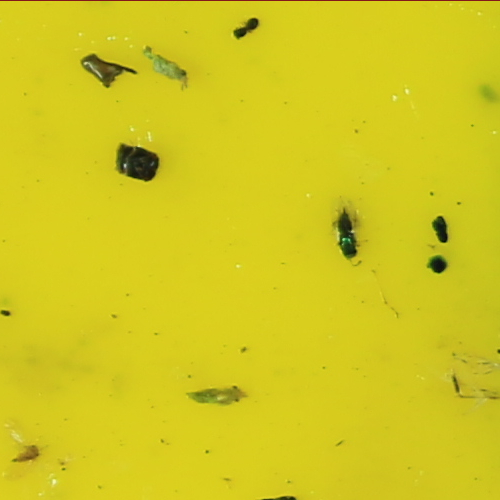psylla: (140, 42, 186, 87), (185, 381, 246, 406), (12, 443, 48, 466)
wasp: (334, 207, 360, 263)
